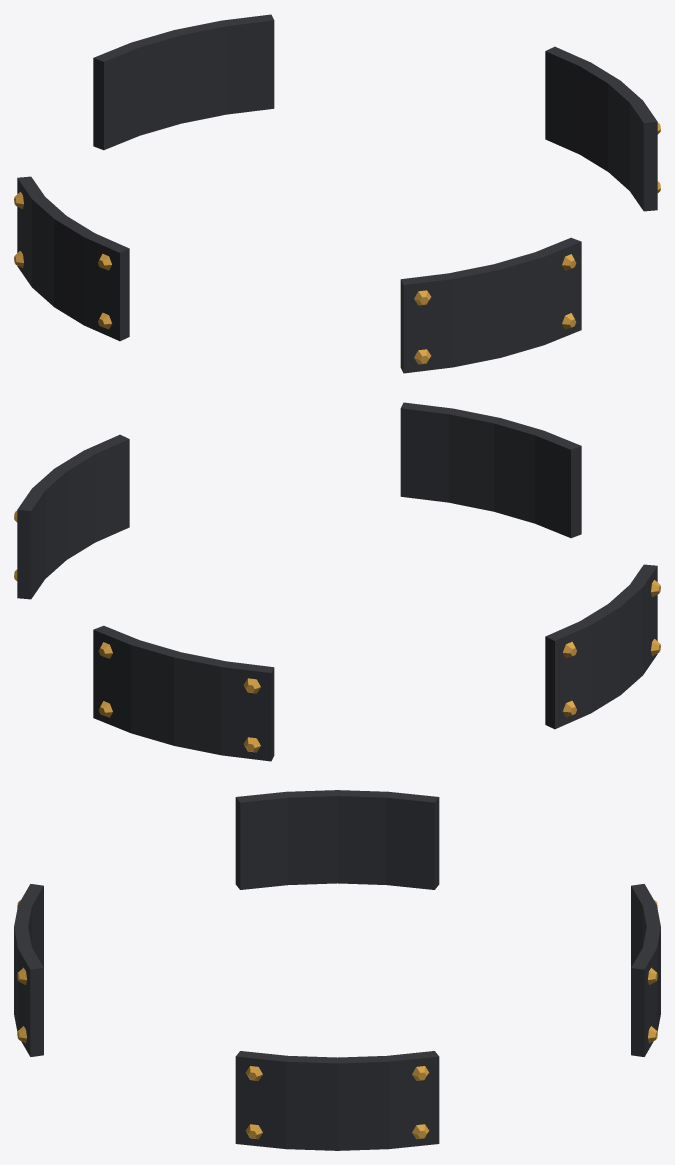
File: BubbleKit5.obj
The picture shows the model from 3 angles, top to bottom: view 1: azimuth 30°, elevation 25°; view 2: azimuth 150°, elevation 25°; view 3: azimuth 270°, elevation 25°; orthographic projection.
Parts seen in each view (by area): view 1: BubbleKit5; view 2: BubbleKit5; view 3: BubbleKit5.
Part boxes in pixels (<box>): BubbleKit5: <box>14,14,660,373</box>; BubbleKit5: <box>14,402,660,761</box>; BubbleKit5: <box>14,790,660,1150</box>.
Bounding box in the file's own units: 1.01 × 0.15 × 1.01.
